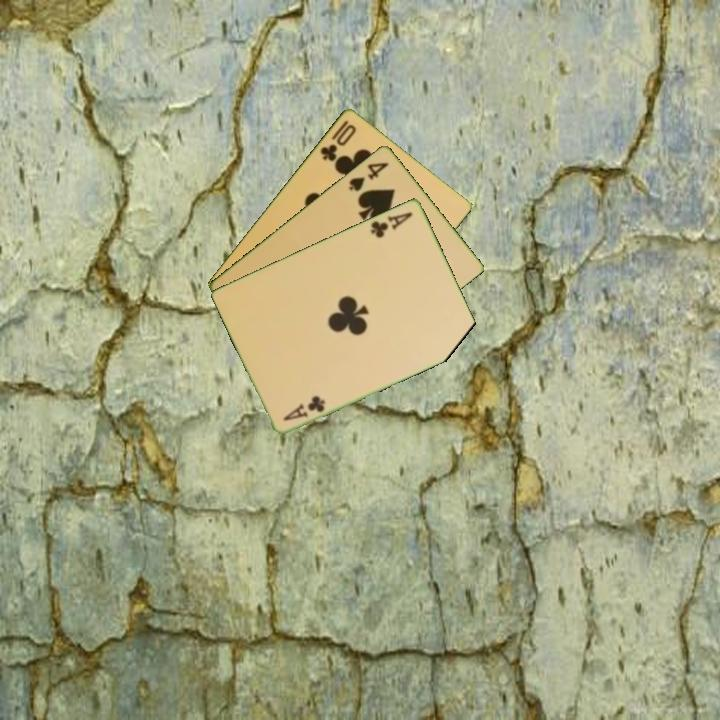10c: (317, 116, 359, 164)
4s: (345, 158, 392, 194)
Ac: (367, 208, 415, 240), (280, 392, 328, 424)
